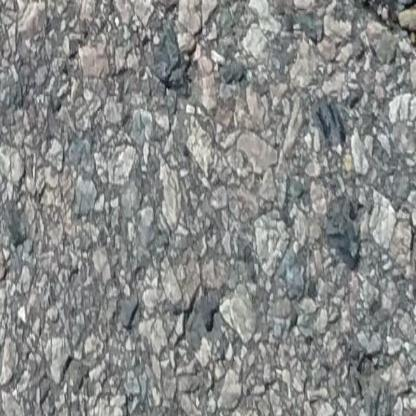Cracks: (339, 0, 416, 48)
